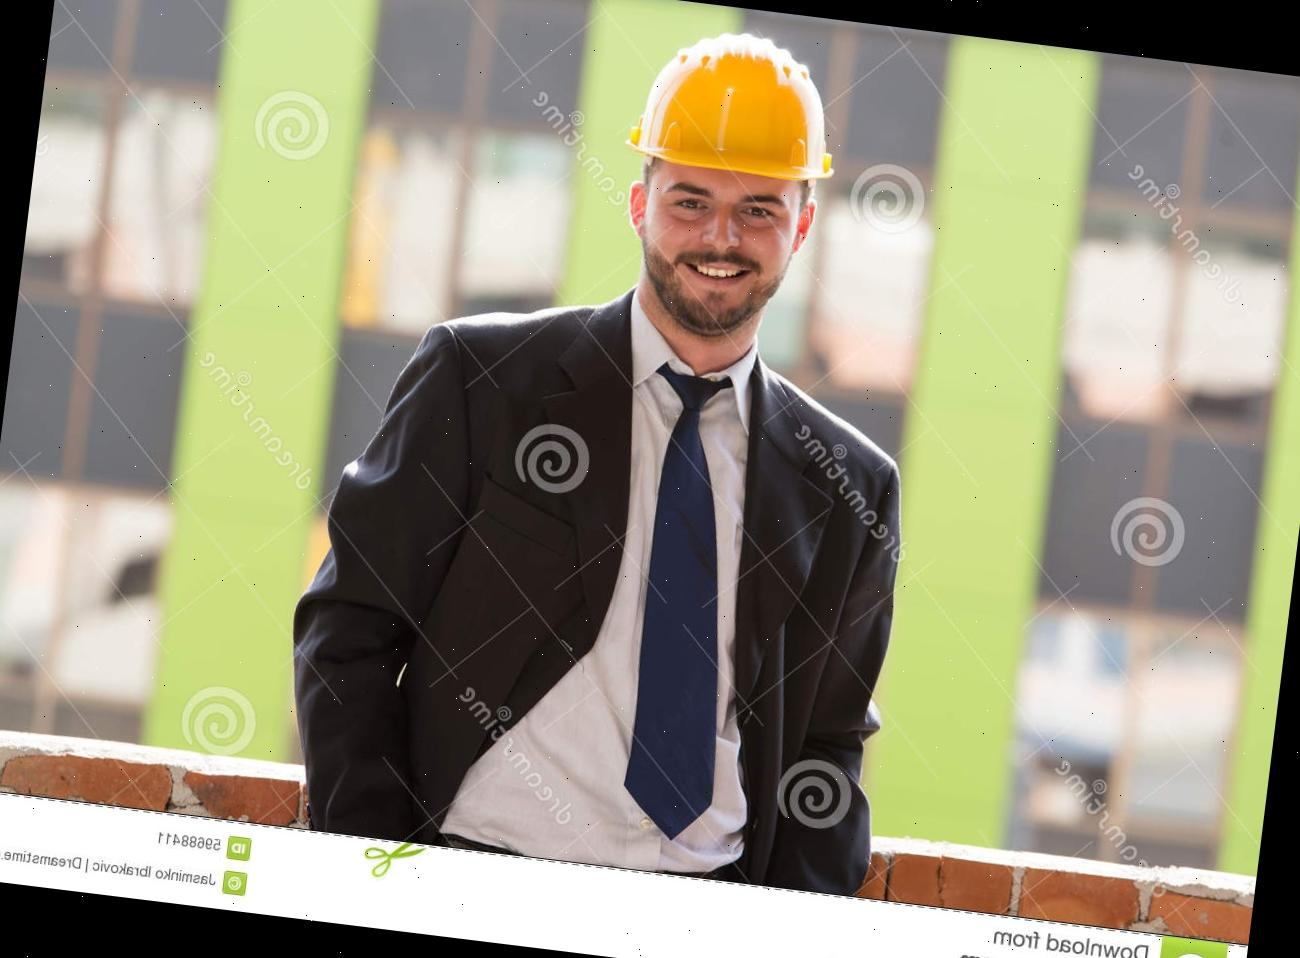helmet: (623, 19, 850, 189)
no_wear: (281, 323, 913, 898)
